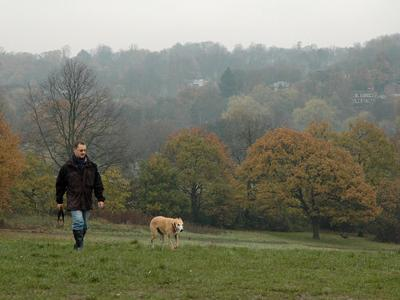person: (56, 142, 106, 251)
